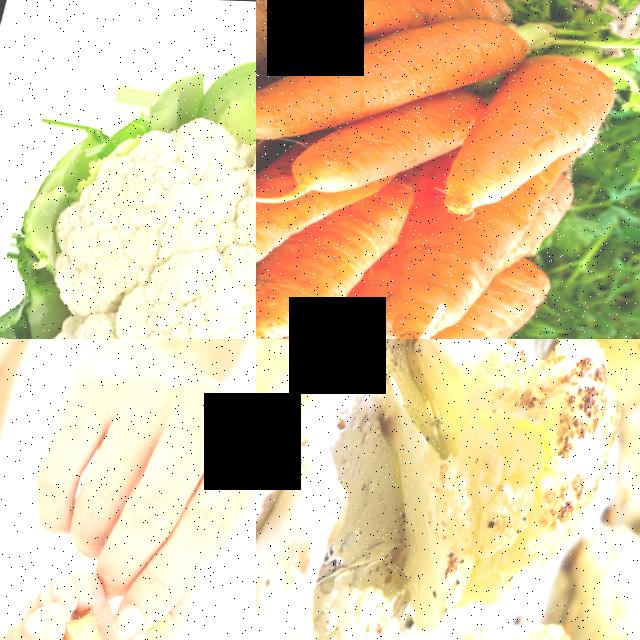carrot: (256, 10, 453, 118), (395, 197, 541, 334), (301, 107, 467, 209), (256, 225, 400, 339), (503, 49, 632, 172), (256, 162, 340, 292), (256, 0, 452, 30)
cashew: (126, 617, 191, 640)
cauliflower: (337, 339, 640, 628), (0, 0, 256, 339), (256, 492, 438, 640), (256, 339, 400, 519)
